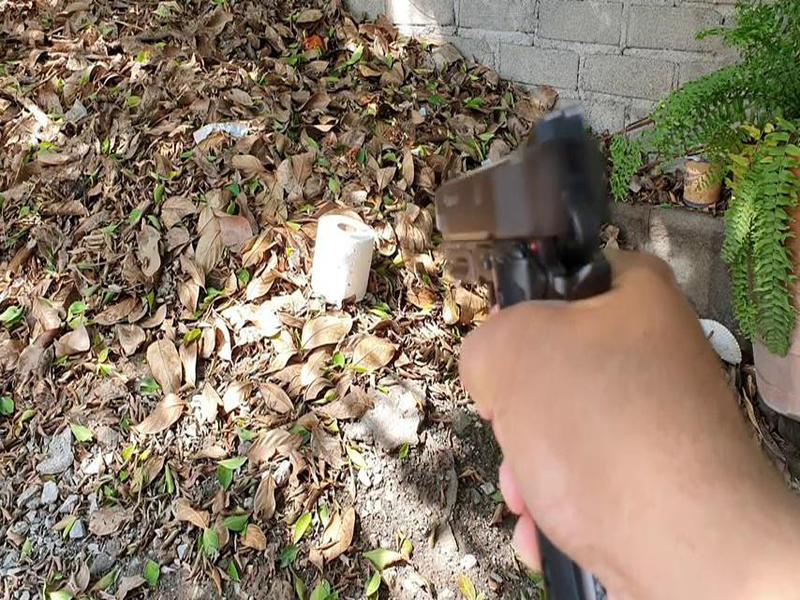Pistola: (416, 116, 625, 368)
